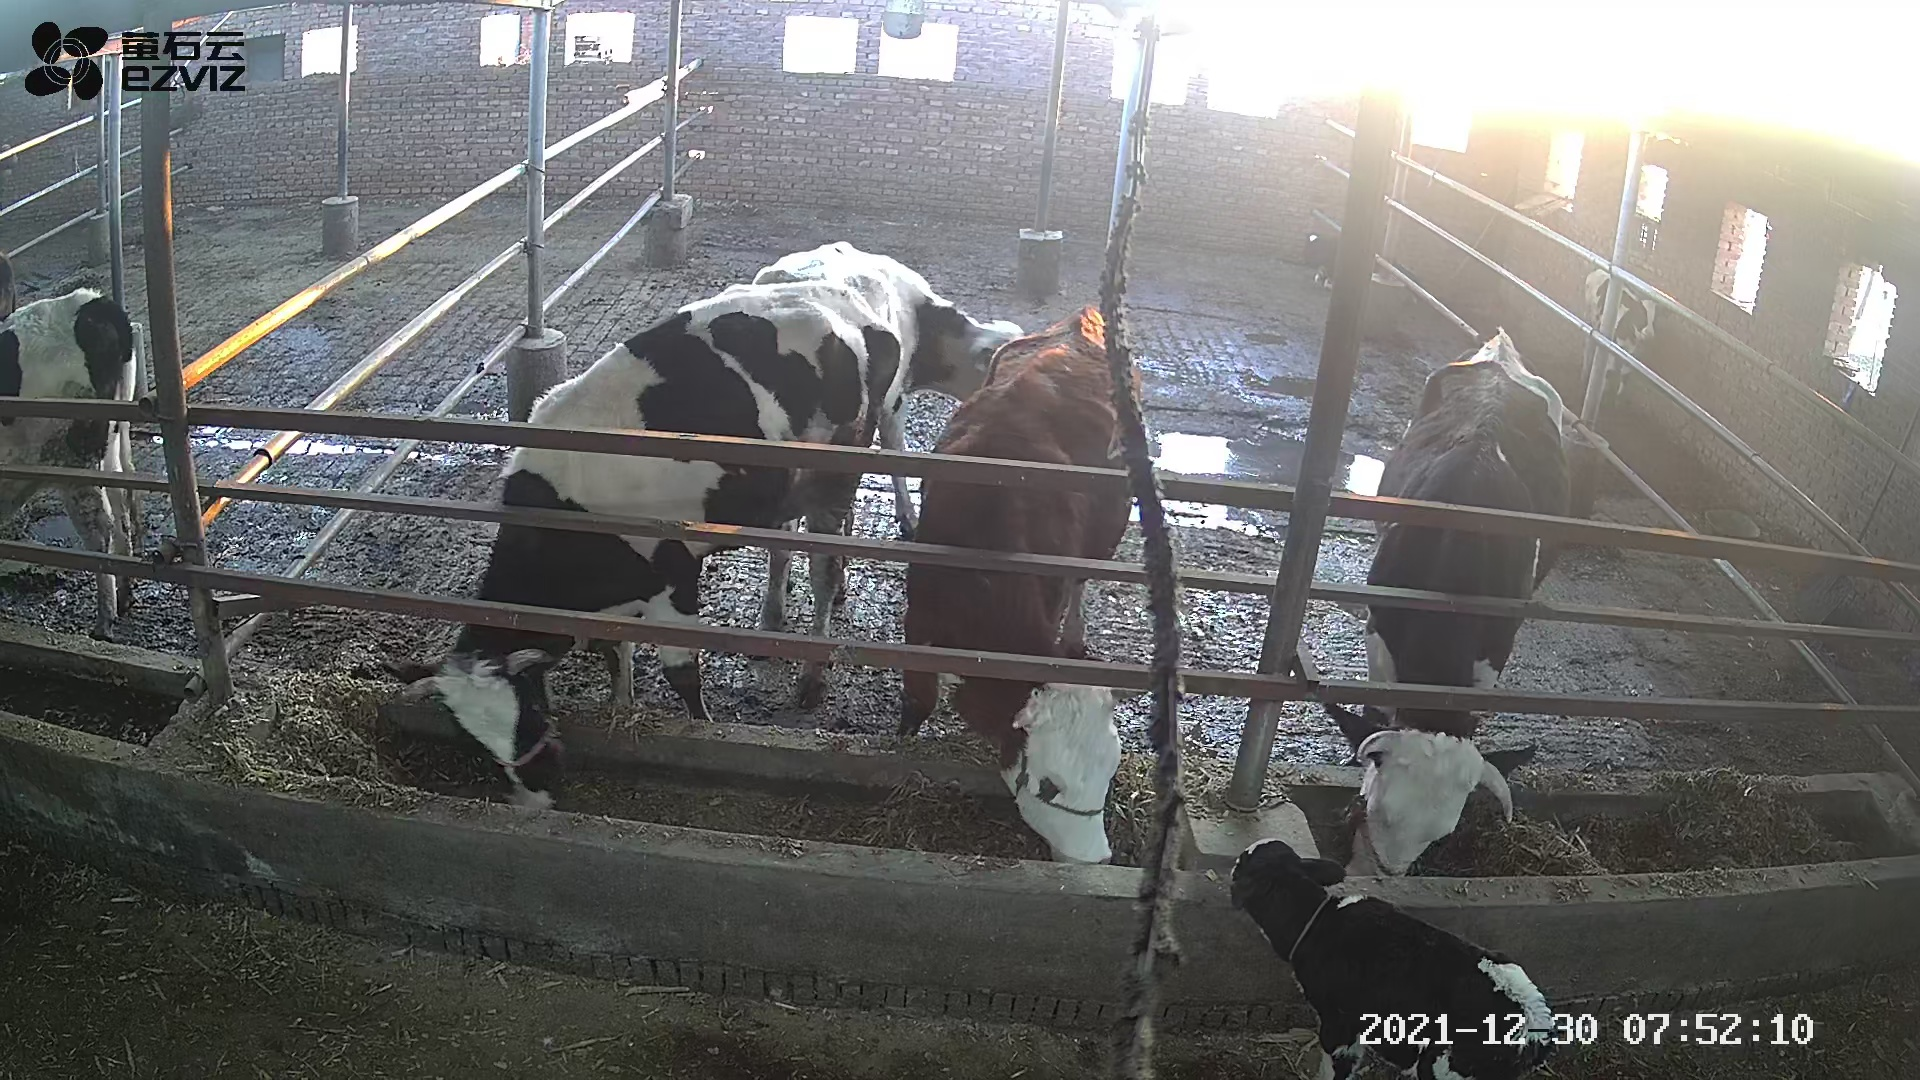cow: (397, 278, 903, 808), (887, 295, 1149, 870), (1342, 324, 1572, 878), (752, 237, 1023, 608)
